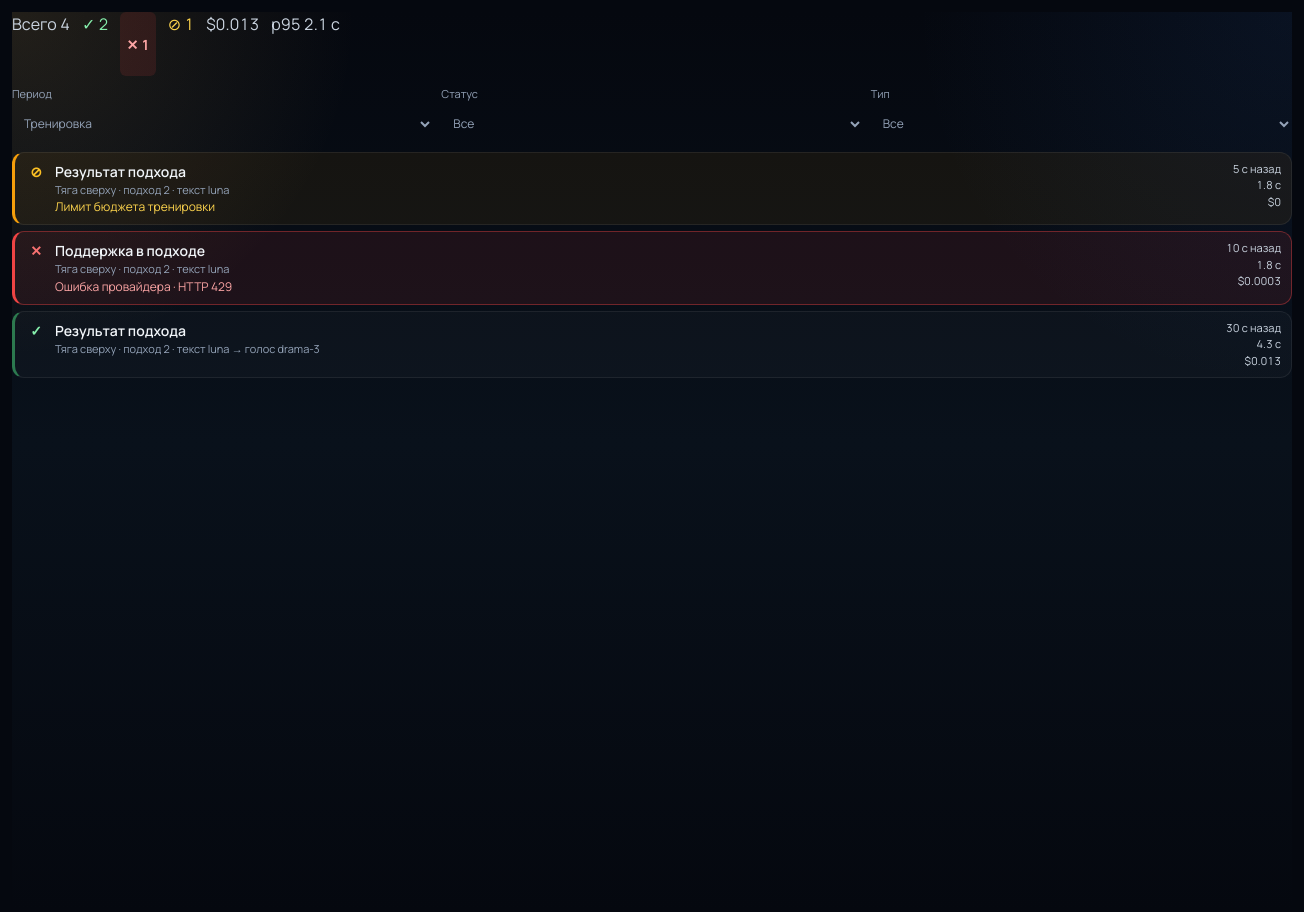
Test case: CoachRequestsTab › lists requests newest first, marks errors red with their reason and opens the provider message
This screenshot has width=1304, height=912.
Expected: the number of list items is 3, x1=12 y1=152 x2=1292 y2=225; x1=12 y1=231 x2=1292 y2=304; x1=12 y1=310 x2=1292 y2=378
Expected: the text "Ошибка провайдера · HTTP 429" is shown, x1=55 y1=278 x2=232 y2=294
Click the button that starts with "Поддержка в подходе" at point(130, 250), box x1=15 y1=232 x2=1291 y2=304
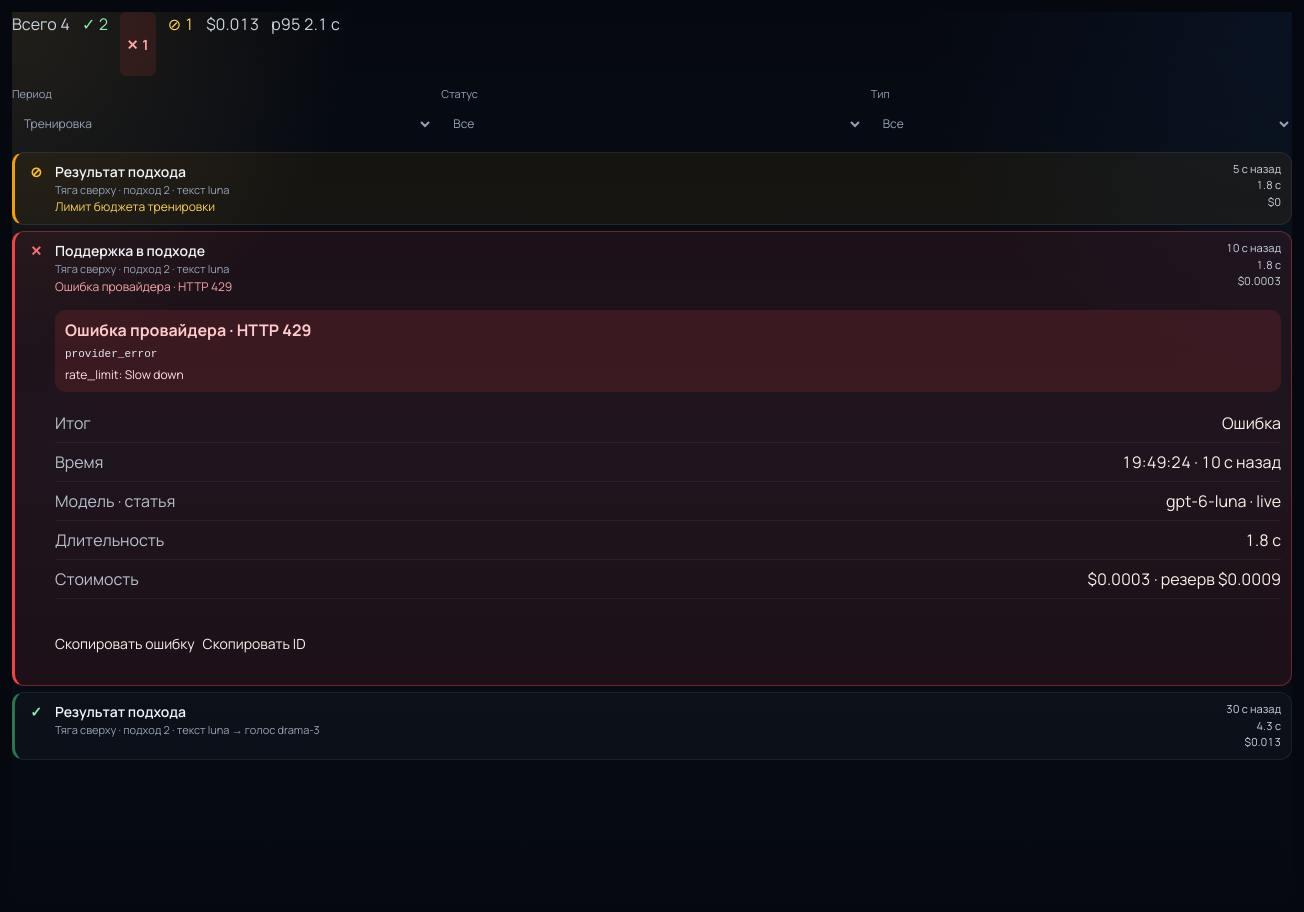
Expected: the text "rate_limit: Slow down" is shown, x1=65 y1=366 x2=184 y2=383
Expected: the button "Скопировать ошибку" is shown, x1=55 y1=611 x2=195 y2=675
